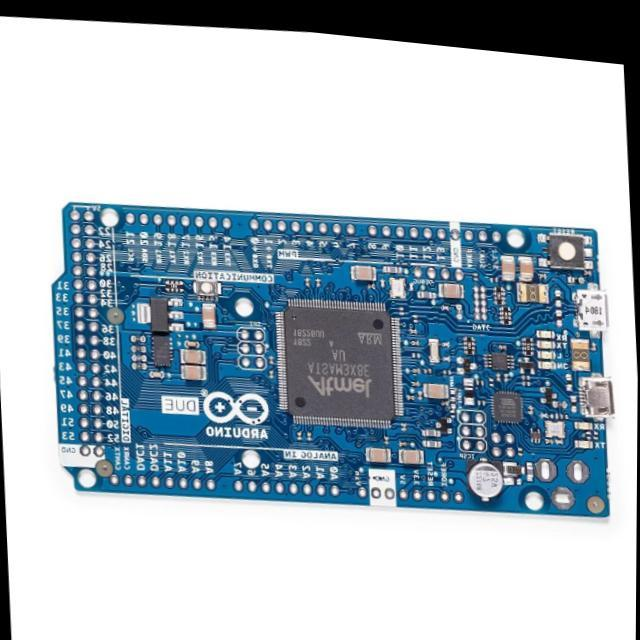Arduino-Due: (53, 204, 615, 519)
